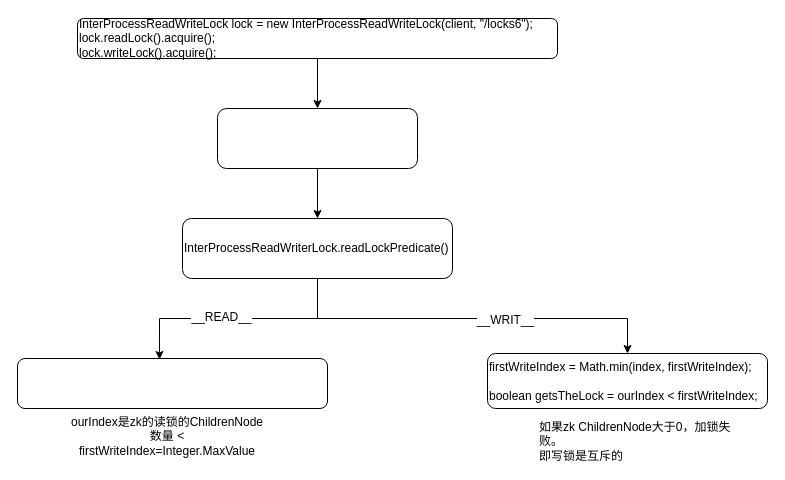
Image size: 785x480. Some labels were removed from this diagram. The box of each missing label's shape, as (x1, y1, x2, y2) in pixels:
boolean getsTheLock = ourIndex < firstWriteIndex;: (16, 358, 328, 408)
internalLockLoop.internalLockLoop(): (216, 108, 418, 168)
